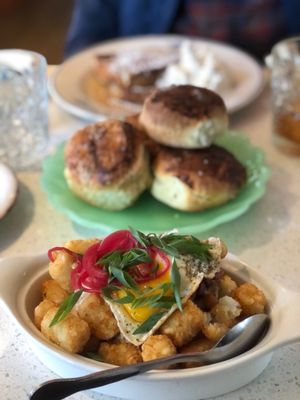sushi: (0, 226, 277, 379)
